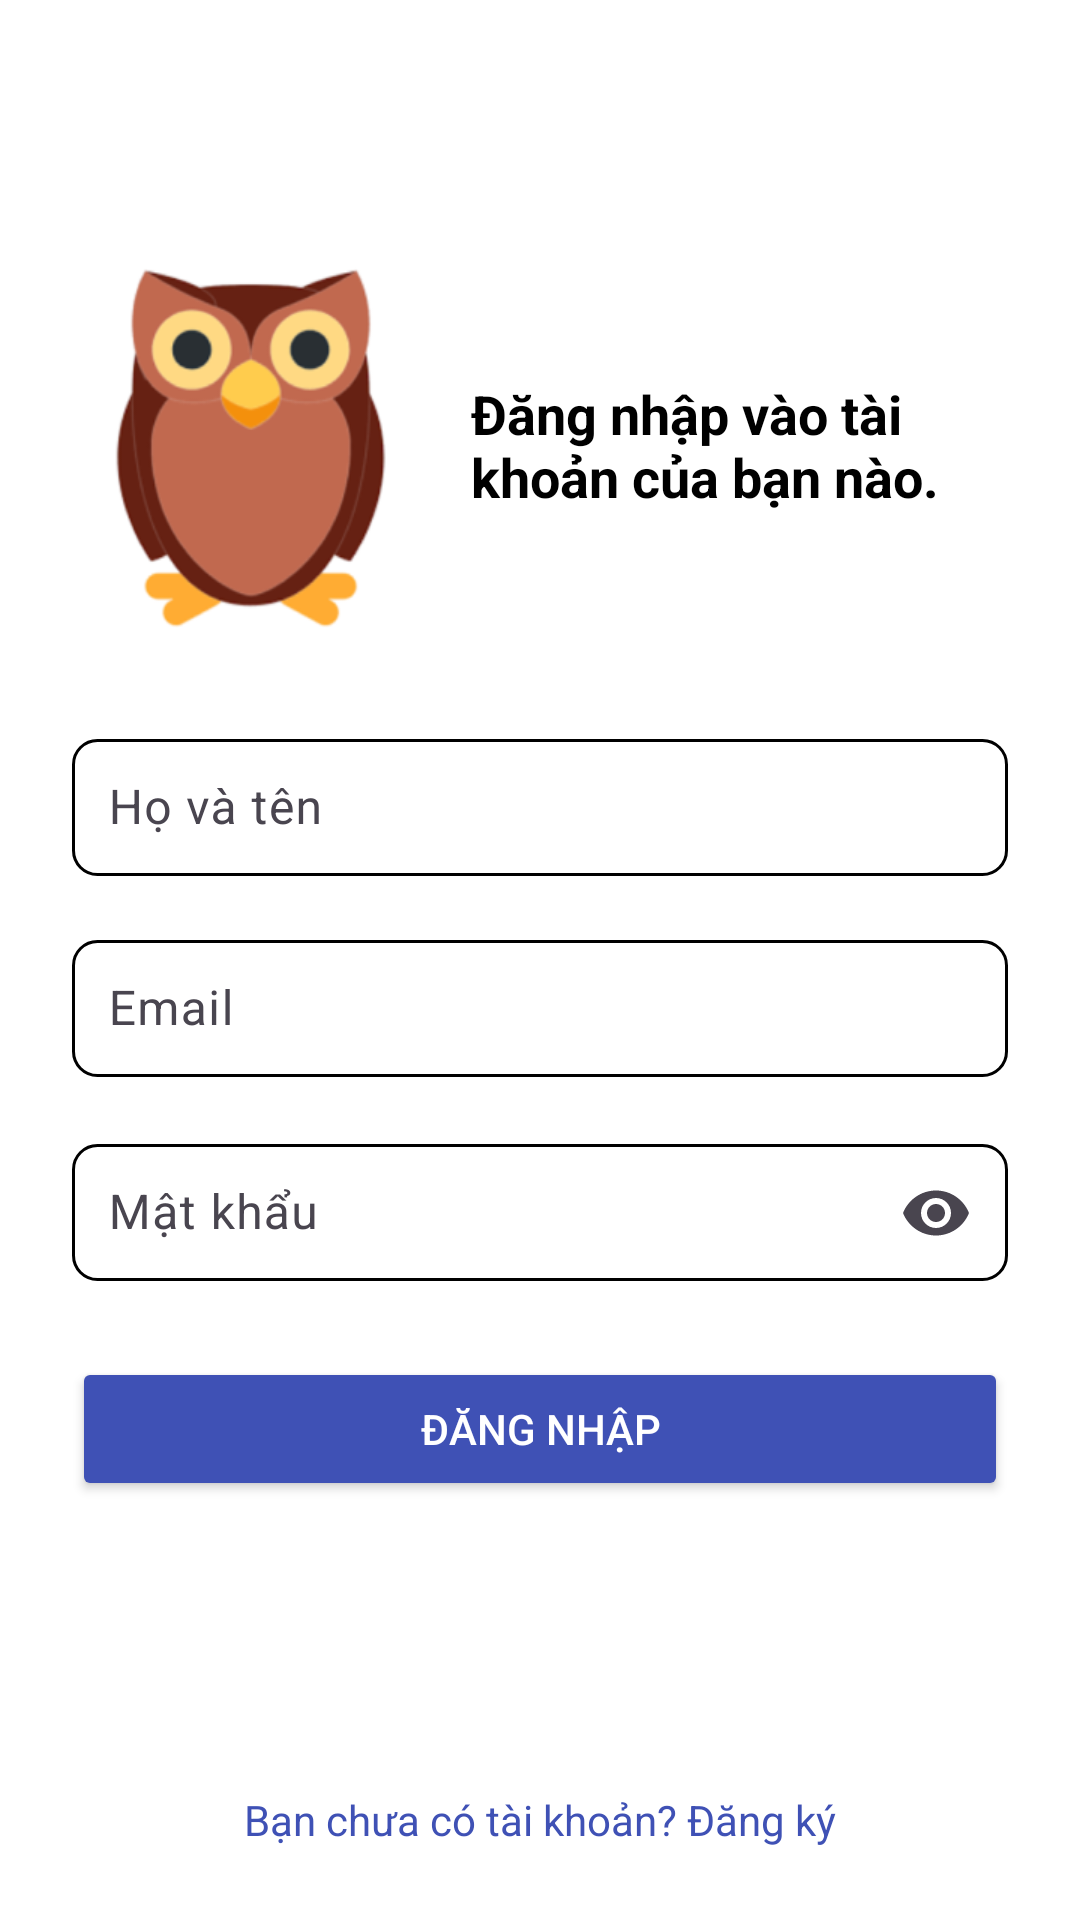

Locate icon controls on the screen. Image size 1080*1920, boxes as [x1, y1, x2, y2].
Hình con cú: [116, 270, 386, 627]
